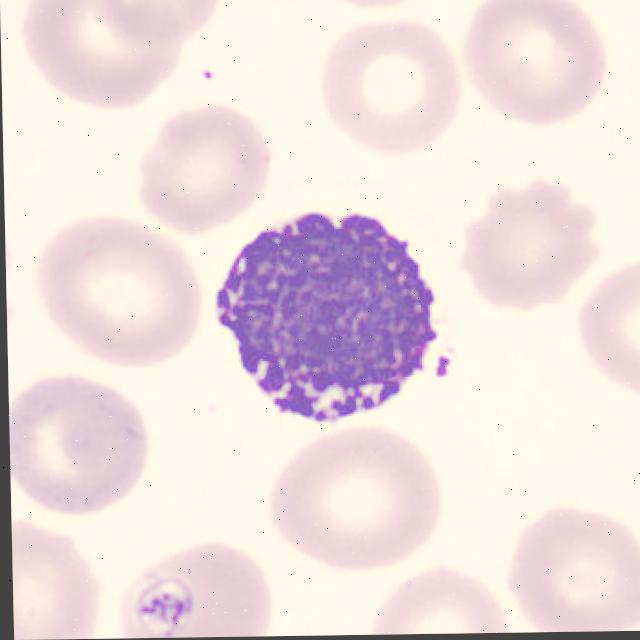basophil: (213, 204, 448, 423)
platelets: (128, 570, 209, 638)
rbc: (17, 189, 204, 369), (263, 420, 454, 558), (449, 155, 602, 321), (447, 0, 634, 133), (8, 355, 156, 519), (133, 90, 283, 243), (13, 0, 196, 119), (313, 15, 459, 155), (498, 492, 640, 633), (11, 504, 103, 640), (358, 561, 508, 635), (563, 250, 640, 391), (83, 0, 222, 48), (308, 0, 426, 18)
